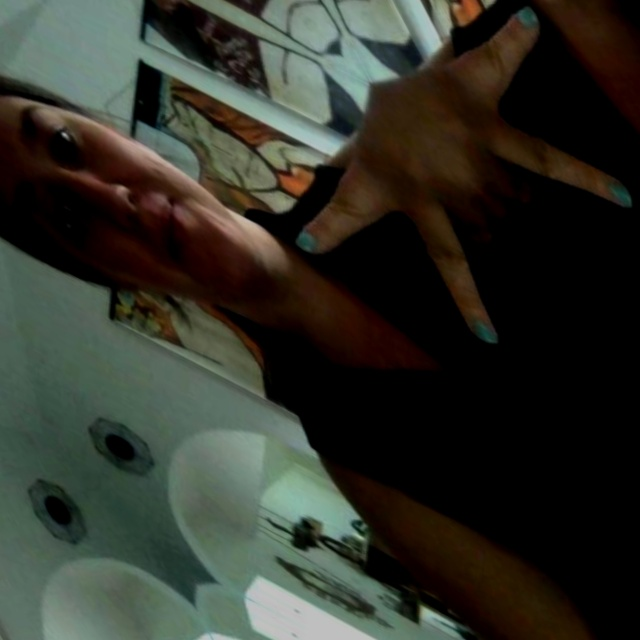Scissors: (324, 0, 640, 311)
